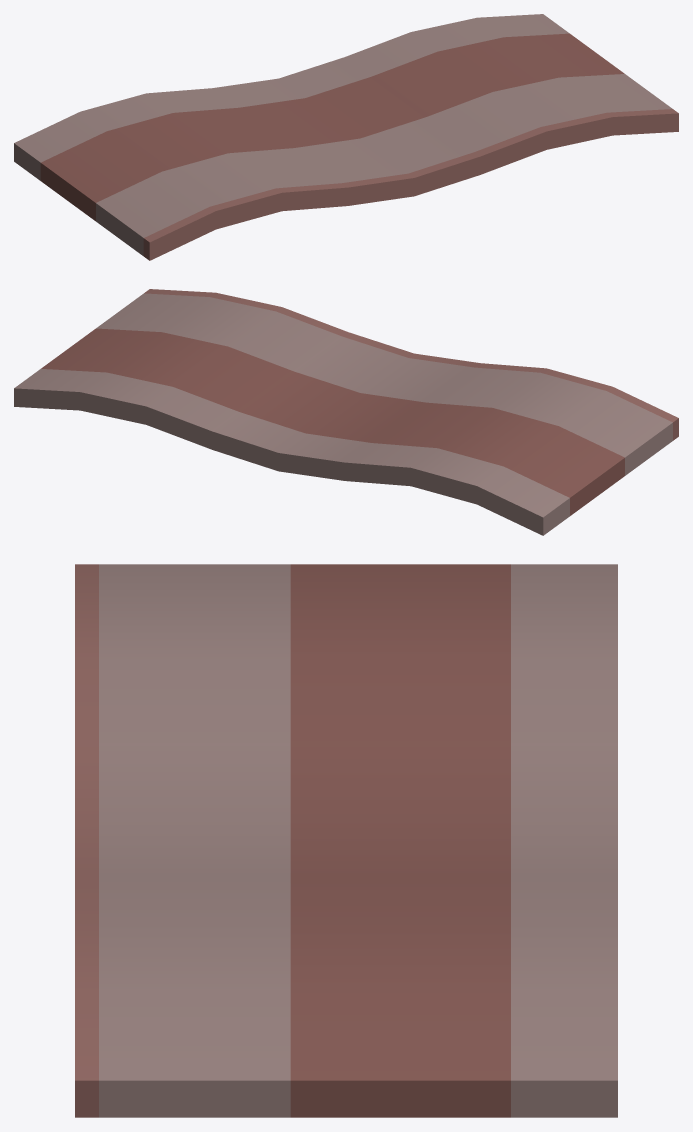
File: BaconCooked03.fbx
The picture shows the model from 3 angles, top to bottom: view 1: azimuth 30°, elevation 25°; view 2: azimuth 150°, elevation 25°; view 3: azimuth 270°, elevation 25°; orthographic projection. The views are drawn at different scales.
Parts seen in each view (by area): view 1: pasted__Fat, pasted__Middle, pasted__Rind; view 2: pasted__Fat, pasted__Middle, pasted__Rind; view 3: pasted__Fat, pasted__Middle, pasted__Rind.
Part boxes in pixels (box(x1,y1,x2,y2)): pasted__Fat: box(14, 14, 672, 255); pasted__Middle: box(40, 33, 624, 221); pasted__Rind: box(143, 109, 678, 260); pasted__Fat: box(14, 293, 672, 535); pasted__Middle: box(41, 328, 624, 515); pasted__Rind: box(144, 289, 678, 440); pasted__Fat: box(99, 564, 617, 1117); pasted__Middle: box(290, 564, 510, 1117); pasted__Rind: box(75, 564, 98, 1117).
Size of the model in its own units: 9 by 0.5839 by 4.
